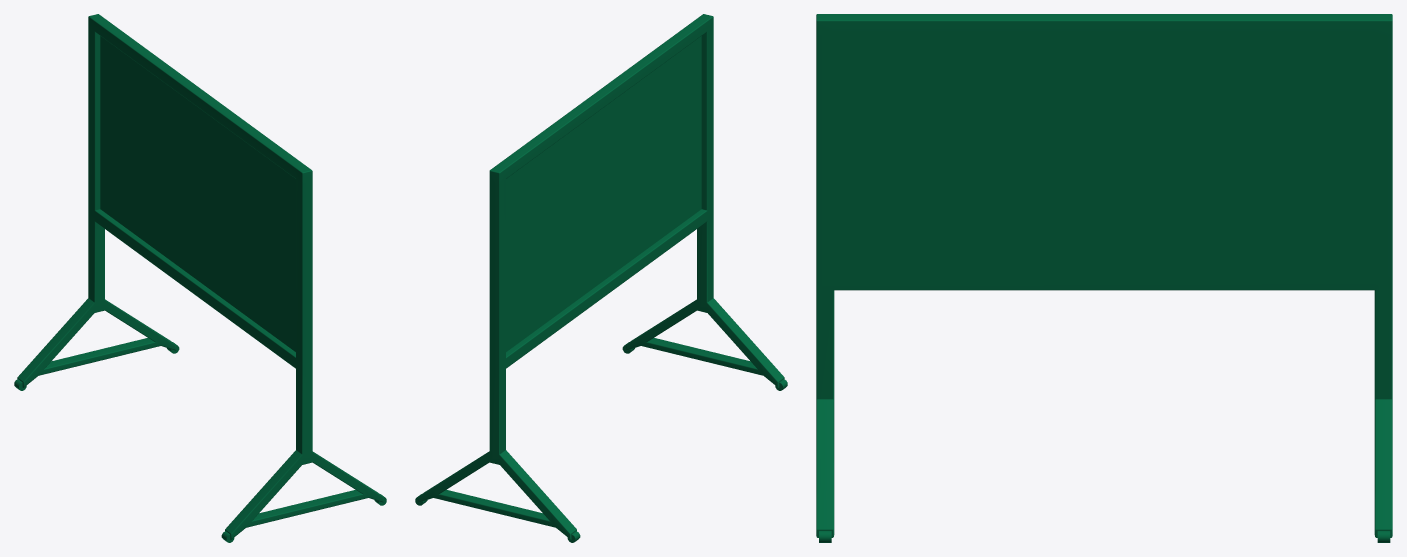
Rendered from Pizarron.fbx.
3 views of the same model, side by side, from view 1: azimuth 30°, elevation 25°; view 2: azimuth 150°, elevation 25°; view 3: azimuth 270°, elevation 25° (orthographic). The views are drawn at different scales.
Parts seen in each view (by area): view 1: Pizarron; view 2: Pizarron; view 3: Pizarron.
Part boxes in pixels (<box>): Pizarron: <box>14,14,386,542</box>; Pizarron: <box>415,14,787,542</box>; Pizarron: <box>816,14,1392,542</box>.
Size of the model in its own units: 3.35 by 7.07 by 7.77.
